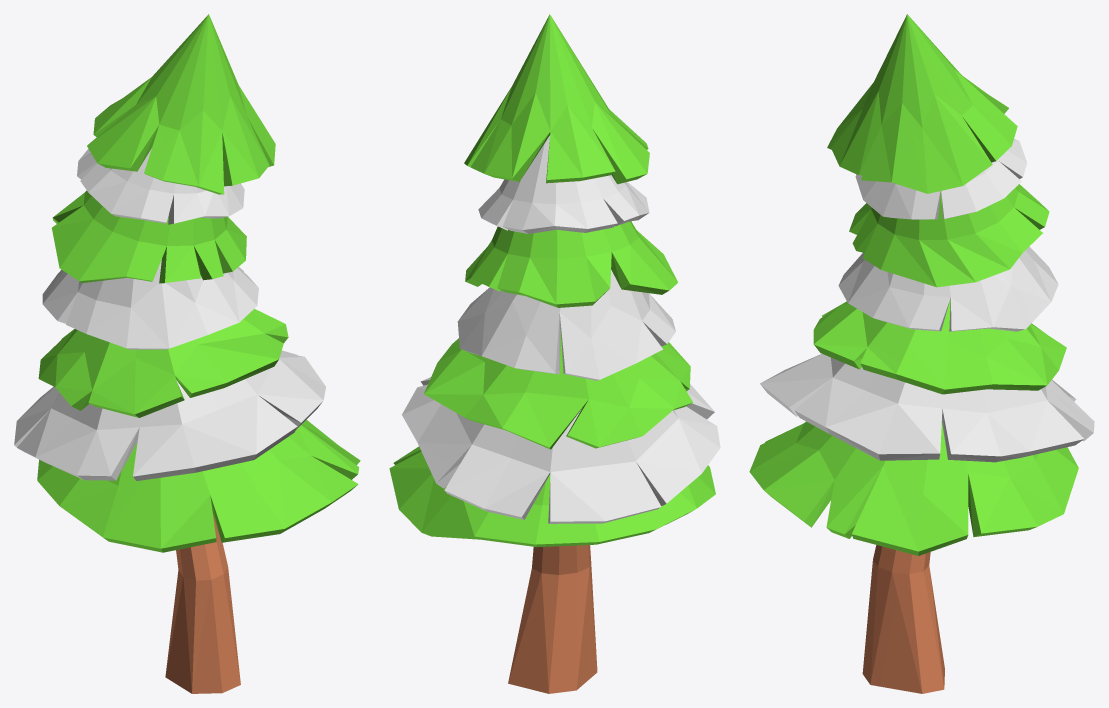
Rendered from Tree_6.fbx.
3 renders of one model, left to right at view 1: azimuth 30°, elevation 25°; view 2: azimuth 150°, elevation 25°; view 3: azimuth 270°, elevation 25°, orthographic.
Visible parts, largest first — view 1: Tree_6; view 2: Tree_6; view 3: Tree_6.
Part boxes in pixels (box(x1,y1,x2,y2)): Tree_6: box(14, 14, 360, 693); Tree_6: box(389, 14, 720, 693); Tree_6: box(749, 14, 1094, 693).
Size of the model in its own units: 2.65 by 5.62 by 2.65.
